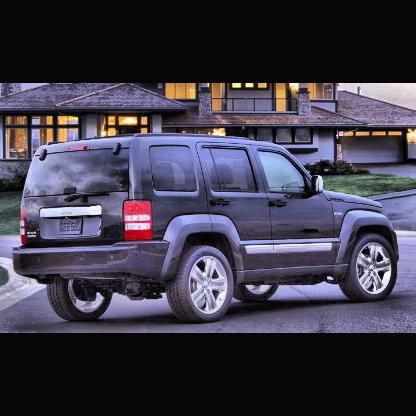Jeep Liberty SUV 2012: (13, 132, 401, 327)
